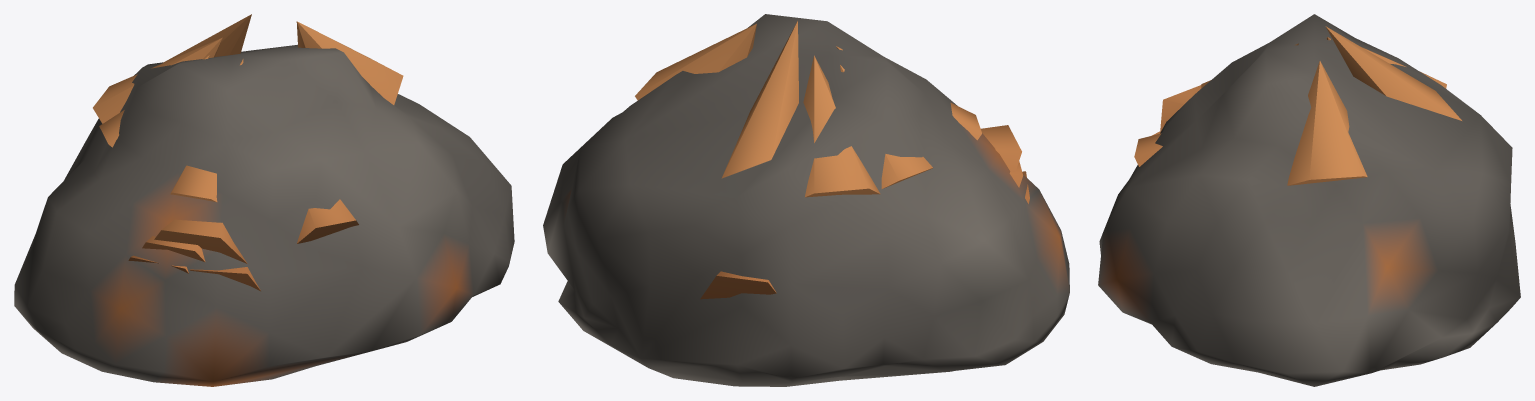
The model's file is mena_cobre_lod.glb.
3 views of the same model, side by side, from view 1: azimuth 30°, elevation 25°; view 2: azimuth 150°, elevation 25°; view 3: azimuth 270°, elevation 25° (orthographic). The views are drawn at different scales.
Visible parts, largest first — view 1: mena_cobre_malla; view 2: mena_cobre_malla; view 3: mena_cobre_malla.
Boxes of the visible parts, left/top/right/bottom form: mena_cobre_malla: left=14, top=14, right=514, bottom=386; mena_cobre_malla: left=543, top=14, right=1069, bottom=386; mena_cobre_malla: left=1098, top=14, right=1520, bottom=386.
Bounding box in the file's own units: 0.6674 × 0.414 × 0.5529.
